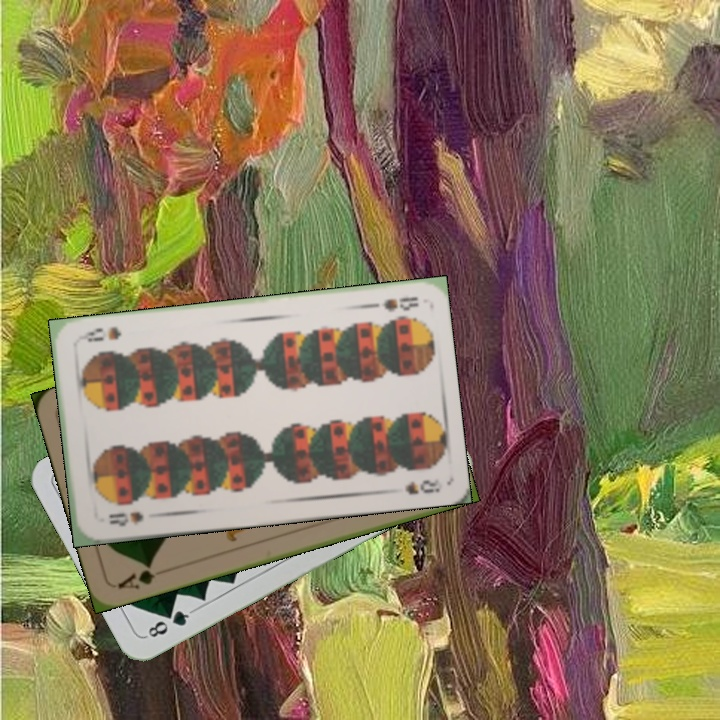G8: (141, 605, 196, 641)
GA: (114, 560, 158, 592)
S8: (363, 292, 421, 314), (104, 507, 146, 529)
